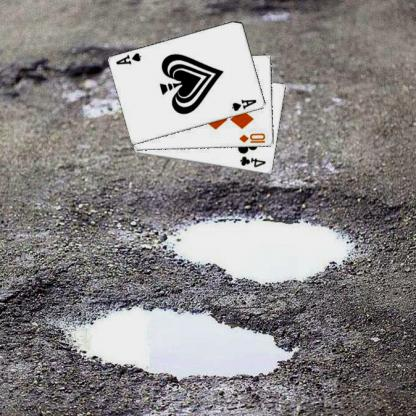10D: (239, 131, 268, 144)
4C: (240, 154, 269, 168)
AS: (231, 97, 260, 112), (116, 51, 144, 66)
